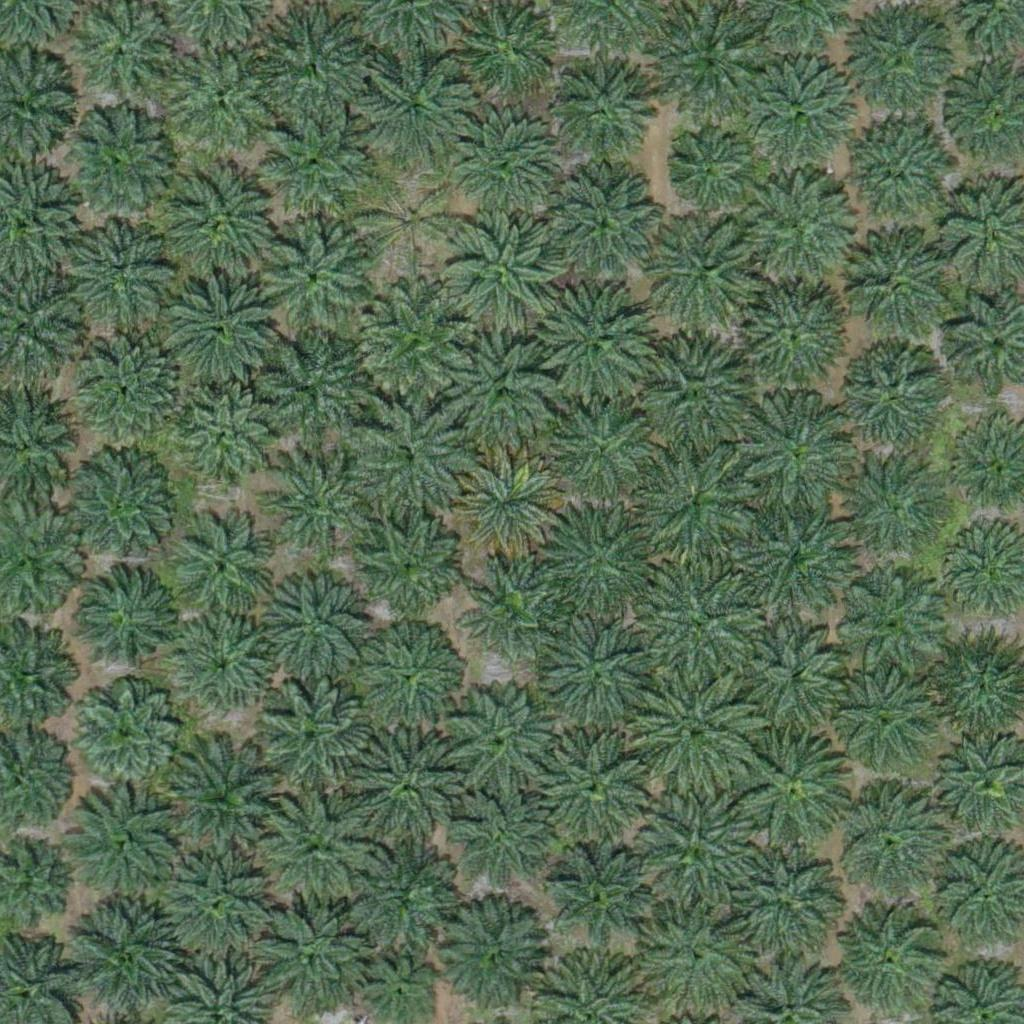Kelapa_Sawit: (165, 738, 290, 864), (648, 2, 773, 128), (632, 443, 757, 569), (638, 562, 763, 688), (632, 665, 757, 790), (160, 846, 273, 960), (70, 791, 183, 905), (743, 280, 856, 394), (649, 214, 762, 328), (735, 395, 848, 509), (548, 167, 661, 281), (68, 676, 181, 790), (831, 784, 944, 897), (740, 734, 853, 847), (730, 839, 843, 952), (433, 903, 546, 1016), (351, 731, 464, 844), (337, 832, 450, 945), (71, 897, 184, 1010), (843, 6, 956, 119), (826, 661, 939, 774), (740, 620, 853, 733), (742, 501, 855, 614), (635, 339, 748, 452), (536, 284, 649, 397), (166, 39, 279, 152), (253, 332, 366, 445), (261, 224, 374, 337), (257, 107, 370, 220), (251, 9, 364, 122), (357, 285, 470, 398), (451, 450, 564, 563), (448, 683, 561, 796), (353, 403, 466, 516), (349, 508, 462, 621), (62, 453, 175, 566), (251, 892, 363, 1006), (832, 562, 944, 676), (452, 115, 564, 229), (639, 788, 751, 901), (637, 897, 749, 1010), (262, 790, 374, 903), (841, 124, 953, 237), (838, 232, 950, 345), (742, 60, 854, 173), (741, 171, 853, 284), (548, 394, 660, 507), (538, 503, 650, 616), (538, 614, 650, 727), (537, 726, 649, 839), (64, 105, 176, 218), (169, 163, 281, 276), (165, 270, 277, 383), (359, 50, 471, 163), (444, 334, 556, 447), (445, 212, 557, 325), (261, 448, 373, 561), (257, 680, 369, 793), (360, 172, 460, 273), (844, 903, 944, 1004), (547, 850, 647, 951), (80, 336, 180, 437), (76, 222, 176, 323), (177, 390, 277, 491), (359, 628, 459, 729), (266, 573, 366, 674), (174, 522, 274, 623), (840, 345, 940, 445), (846, 456, 946, 556), (554, 57, 654, 157), (175, 615, 275, 715), (79, 569, 179, 669), (469, 565, 556, 654), (456, 797, 543, 885), (668, 133, 743, 209)
